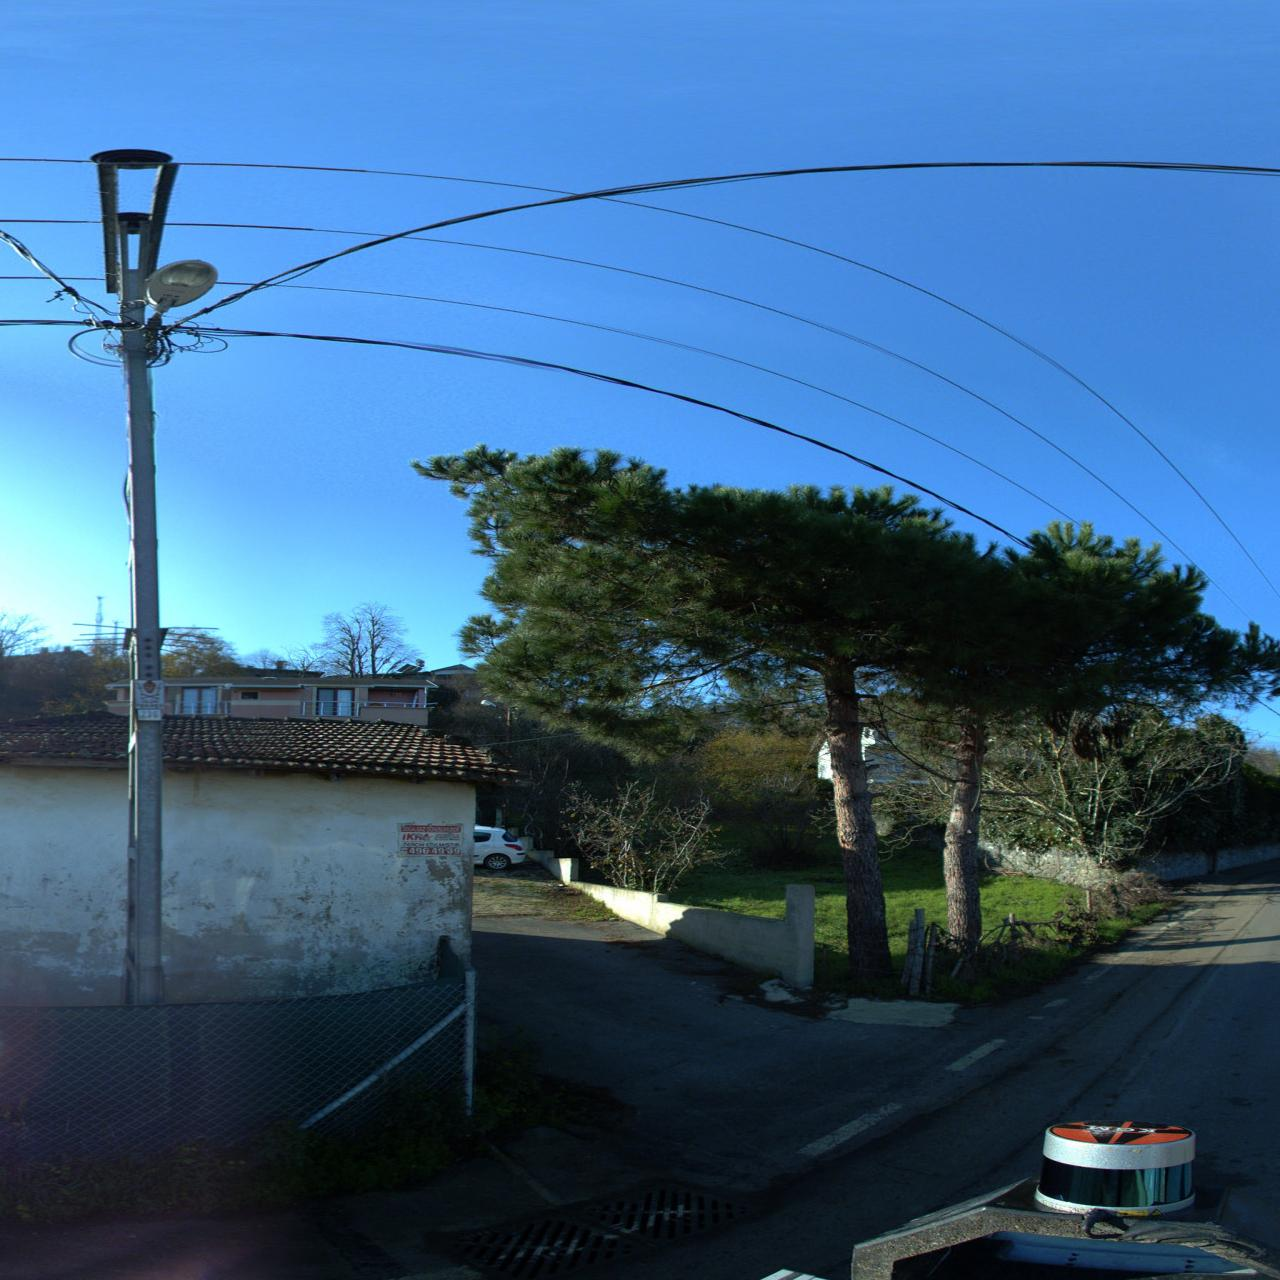Utility Pole Information Plate: (134, 680, 166, 710)
